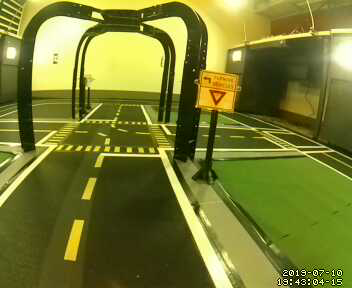Turn Yield: (194, 70, 239, 119)
